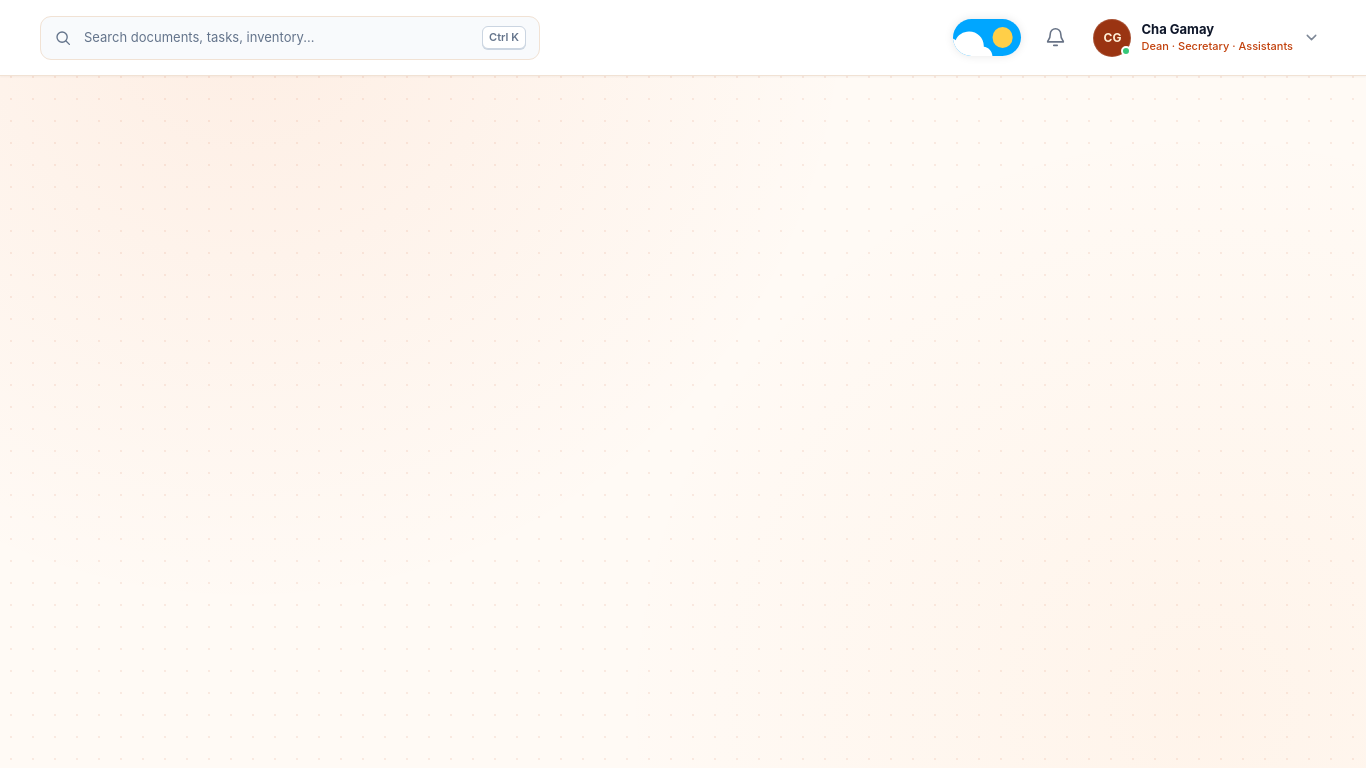
toggles the profile menu and closes it after choosing an item
Click the button "CG Cha Gamay Dean · Secretary · Assistants" at (1208, 38), box [1090,14,1326,60]
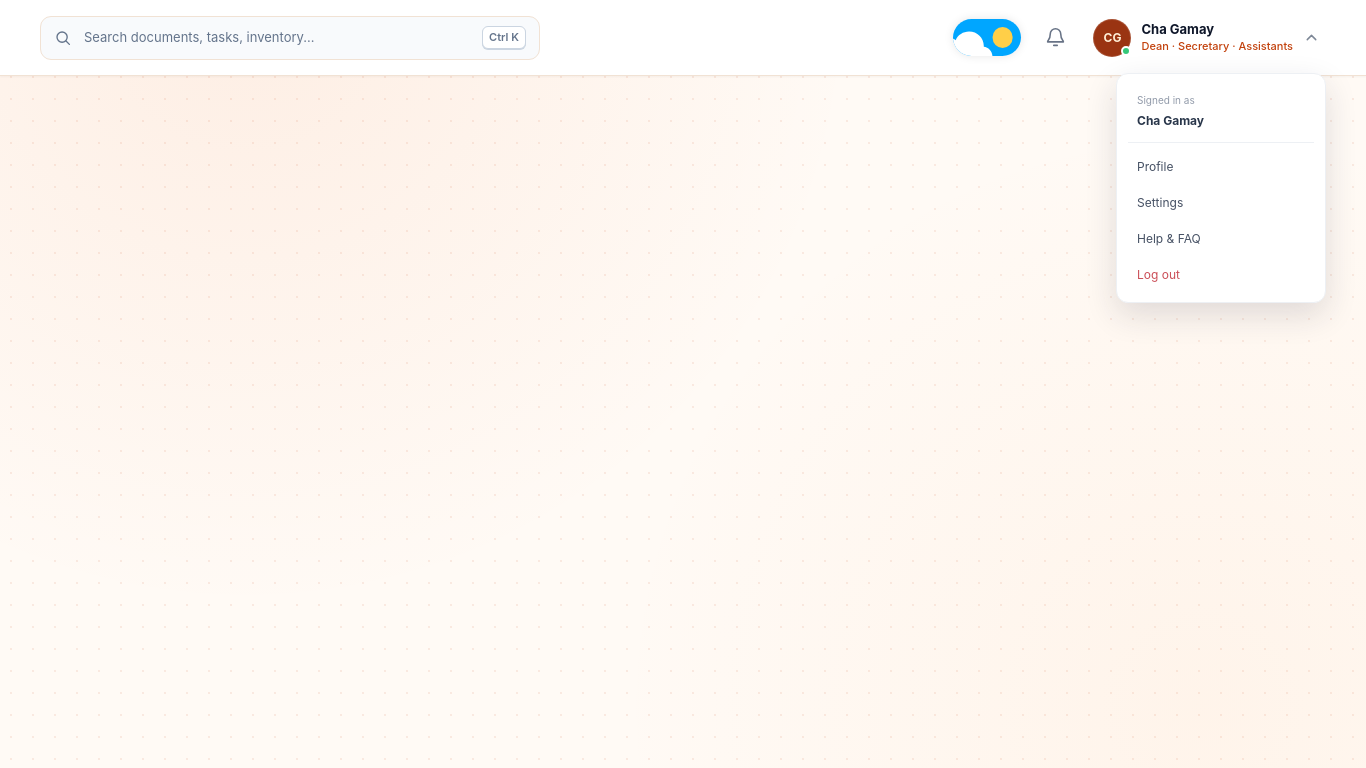
Result: the text "Signed in as" is shown at [1137,94,1195,106]
Result: the menu item "Profile" is shown
Click the menu item "Profile" at (1221, 166), box [1126,148,1316,184]
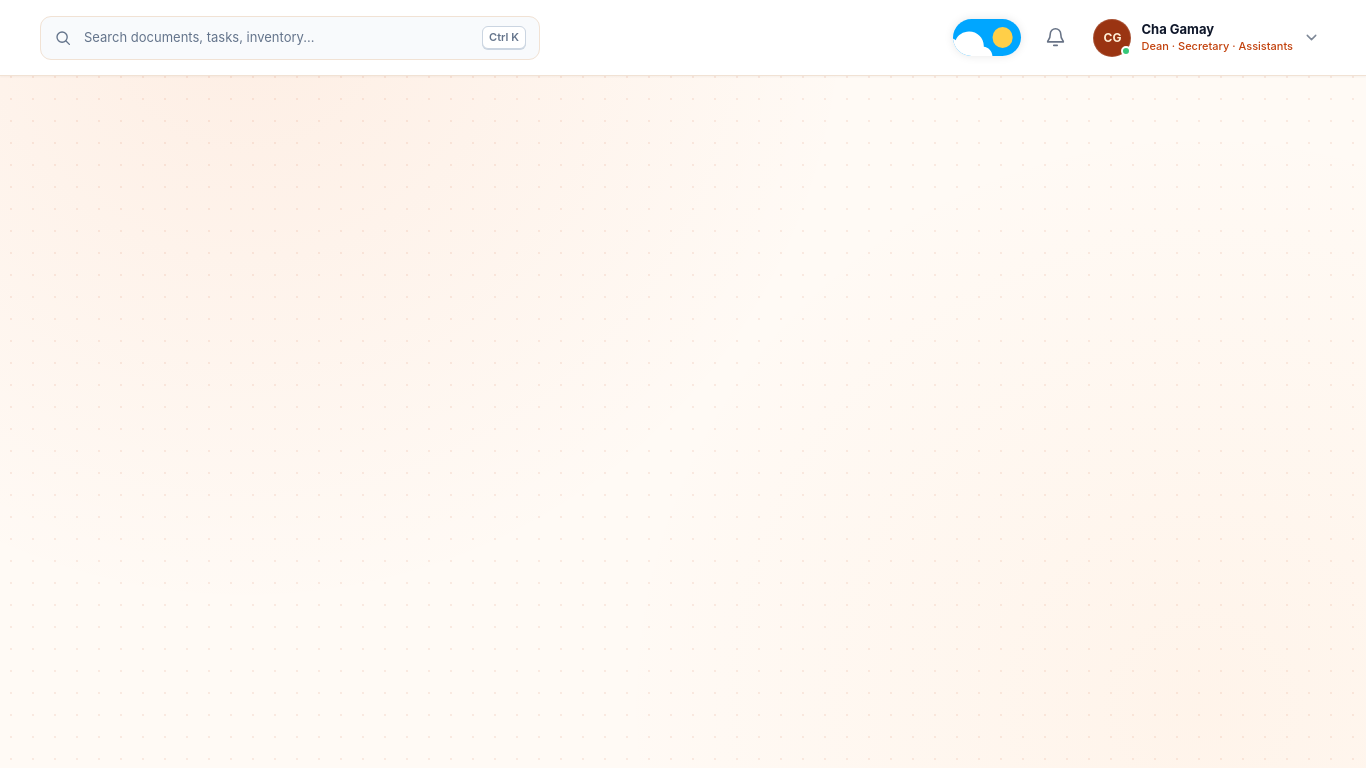
Result: the menu is gone
